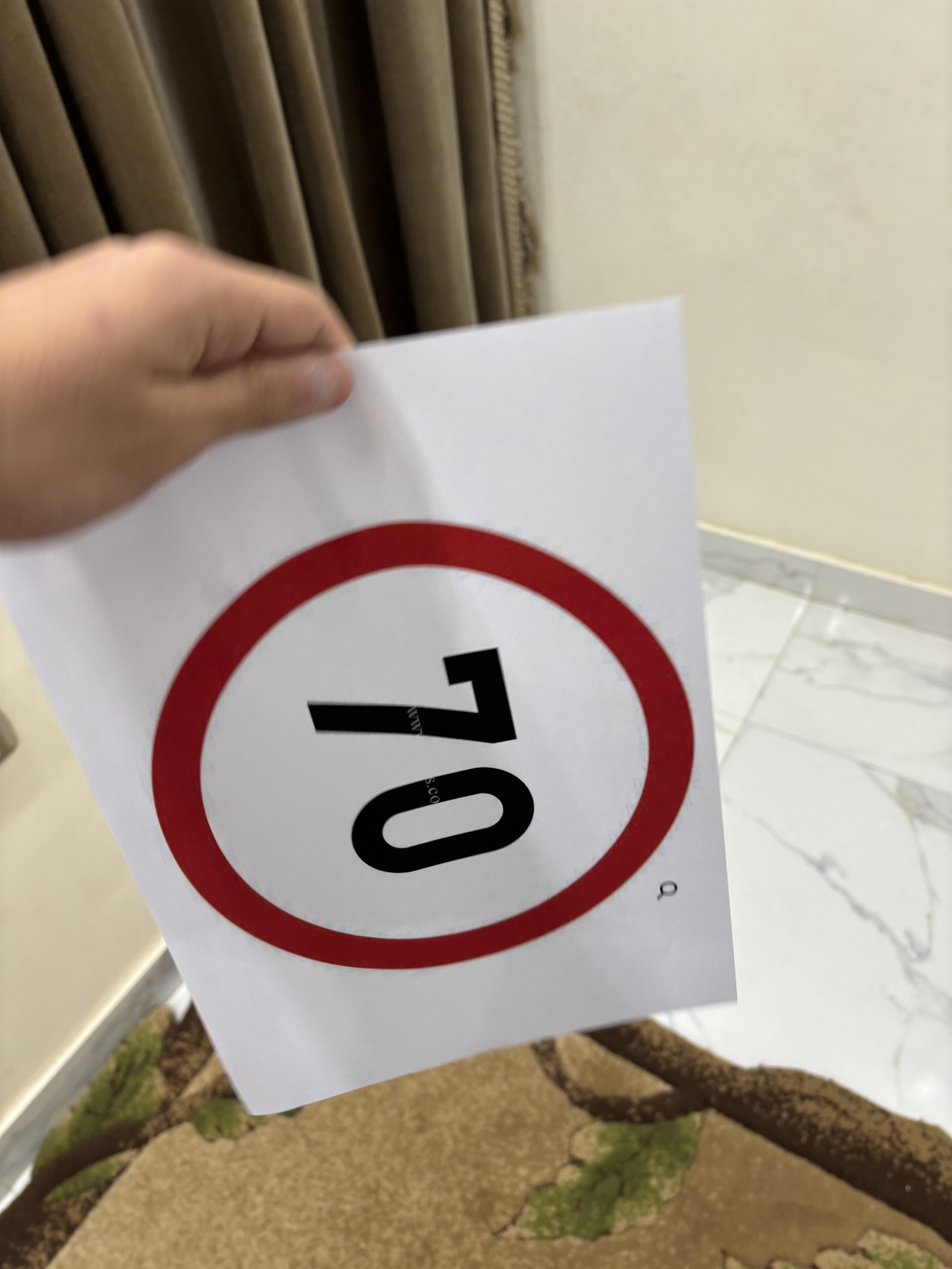70-Speed: (143, 511, 698, 979)
